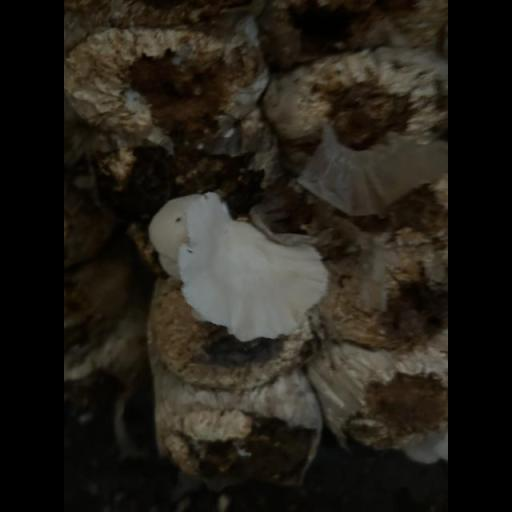White Oyster Mushroom: (130, 182, 336, 347)
